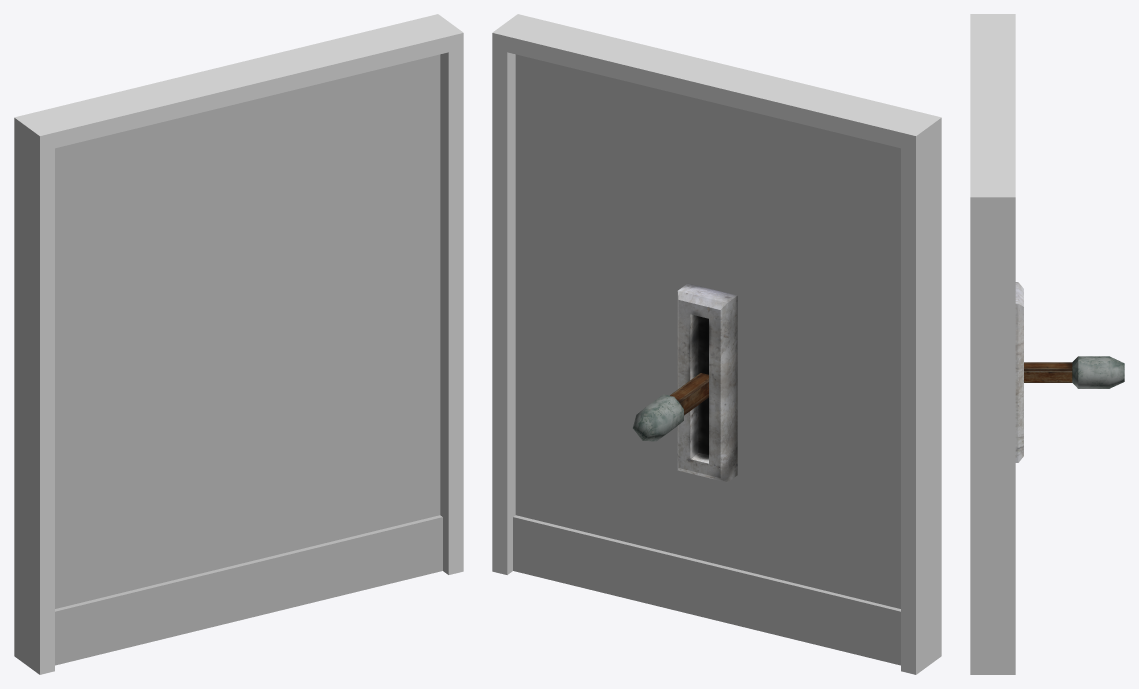
The model's file is DoorAndLever.fbx.
3 views of the same model, side by side, from view 1: azimuth 30°, elevation 25°; view 2: azimuth 150°, elevation 25°; view 3: azimuth 270°, elevation 25° (orthographic). The views are drawn at different scales.
Visible parts, largest first — view 1: Door, DoorFrame; view 2: Door, DoorFrame, LeverFrame, Lever; view 3: DoorFrame, Lever, LeverFrame.
Boxes of the visible parts, x1,y1,x2,y2 form: Door: (55, 54, 442, 665); DoorFrame: (14, 14, 463, 674); Door: (513, 54, 900, 665); DoorFrame: (492, 14, 941, 674); LeverFrame: (677, 283, 737, 482); Lever: (633, 373, 708, 441); DoorFrame: (970, 14, 1015, 674); Lever: (1024, 356, 1124, 388); LeverFrame: (1015, 282, 1023, 462).
Size of the model in its own units: 280 by 340 by 99.68.
